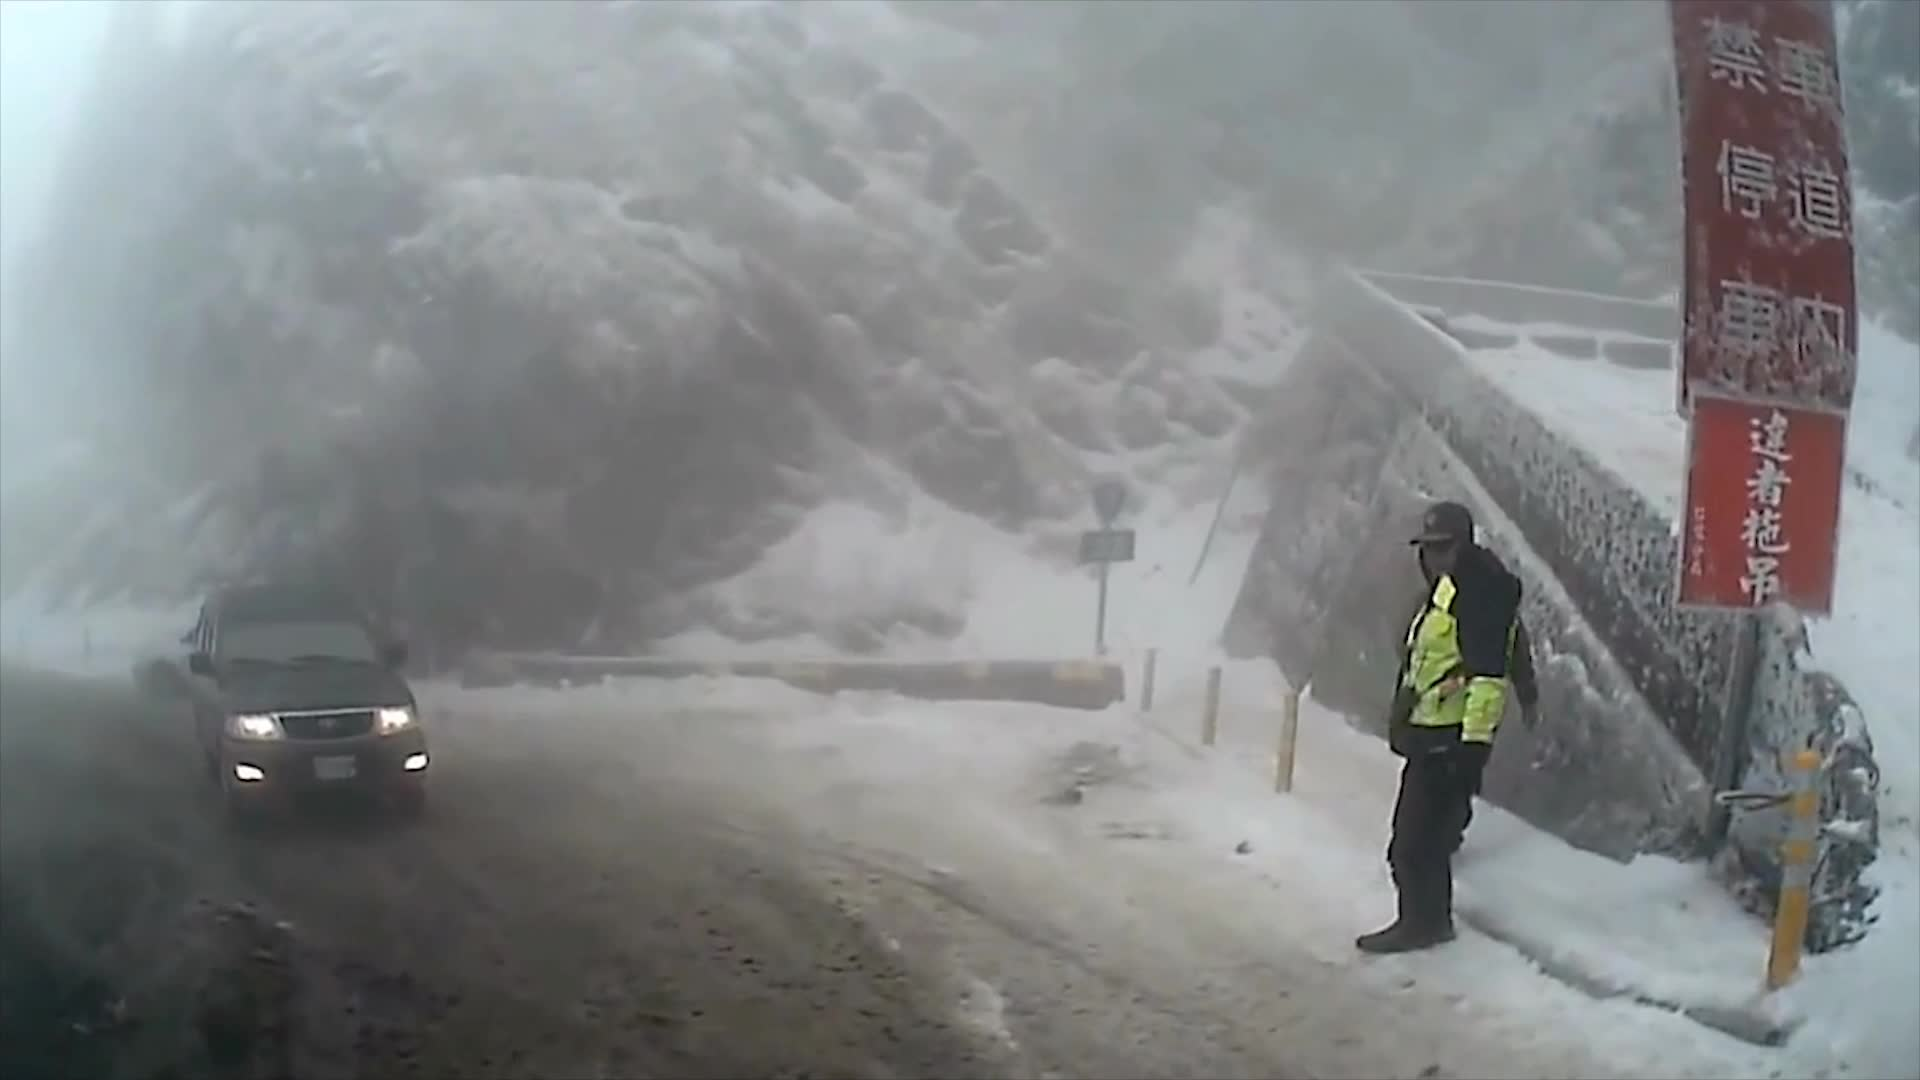pedestrian: (1365, 495, 1538, 955)
vehicle: (186, 584, 431, 831)
